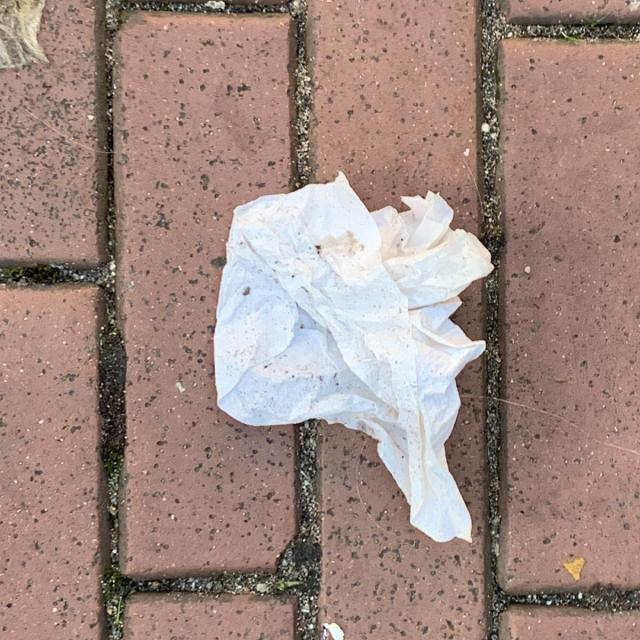Paper: (210, 169, 494, 545)
